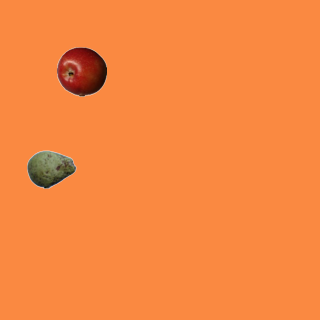Apple Braeburn: (56, 46, 106, 96)
Pear Stone: (26, 144, 76, 194)
